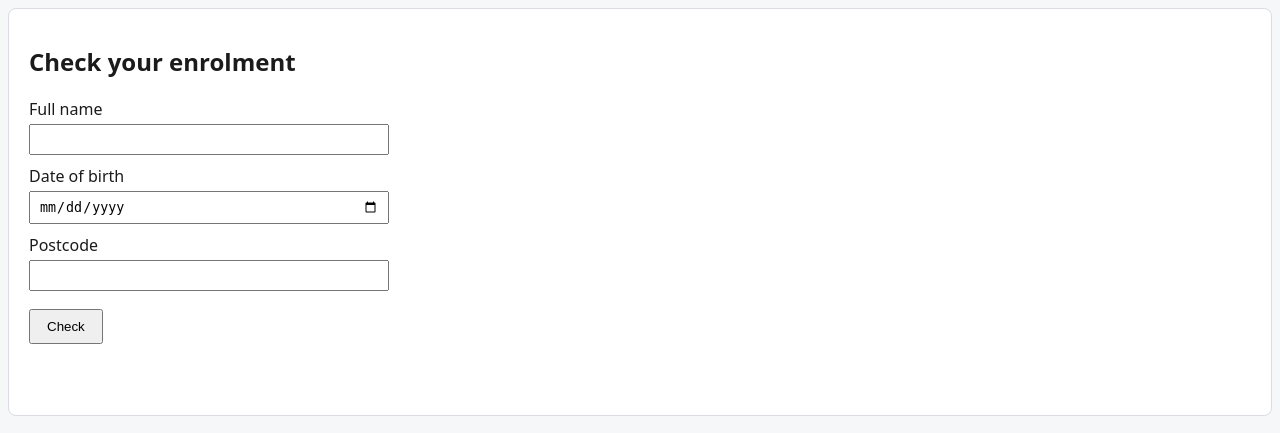
Scenario: SEC-08 EnrolmentCheckForm › sends details in a POST body, never in the URL, without a login token
Type "Jane Smith" into the field labelled "Full name".
click(209, 139); type("Jane Smith")  # box x1=29 y1=124 x2=389 y2=155
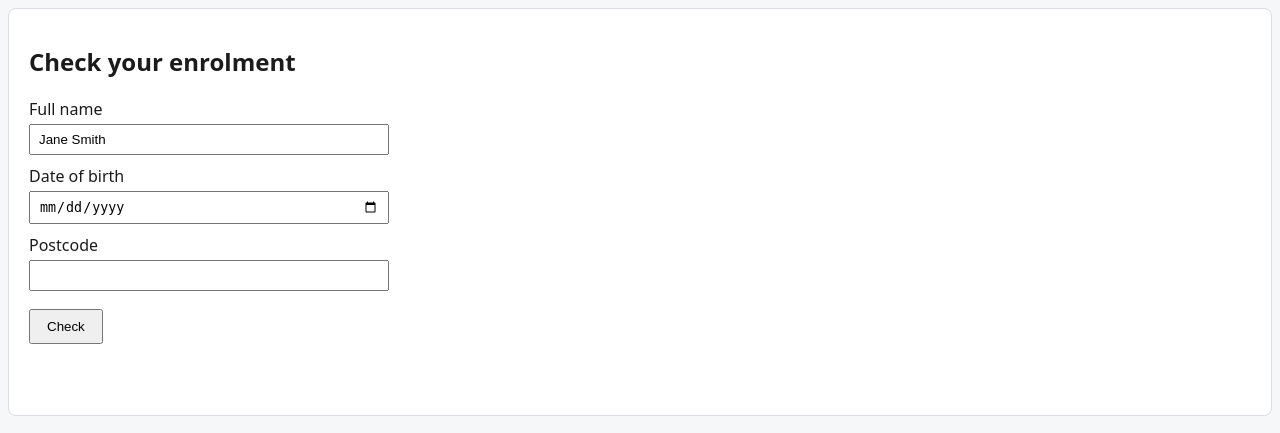
Type "1990-01-01" into the date field labelled "Date of birth".
click(209, 207); type("1990-01-01")  # box x1=29 y1=191 x2=389 y2=224
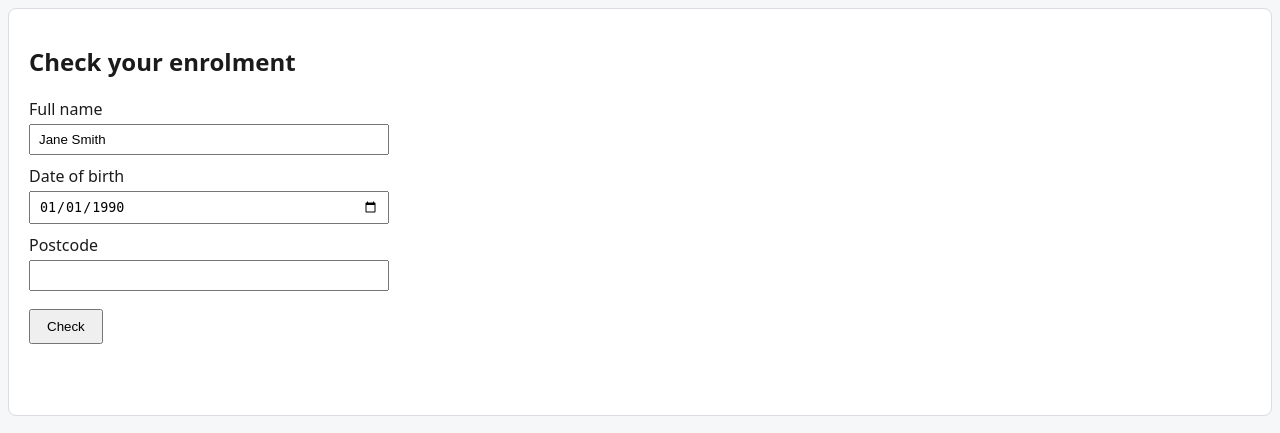
Type "3000" into the field labelled "Postcode".
click(209, 276); type("3000")  # box x1=29 y1=260 x2=389 y2=291
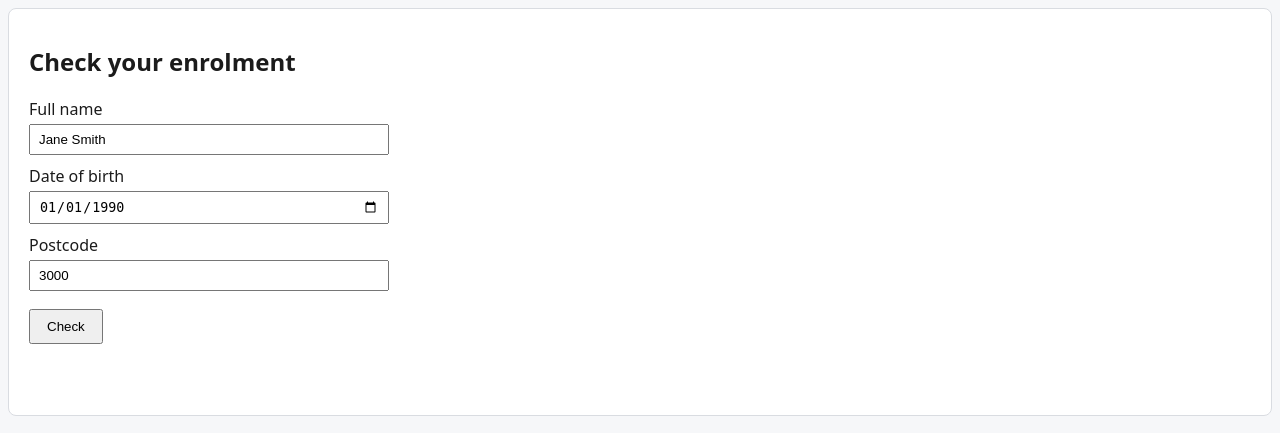
Click the button "Check".
click(66, 327)  # box x1=29 y1=309 x2=103 y2=344
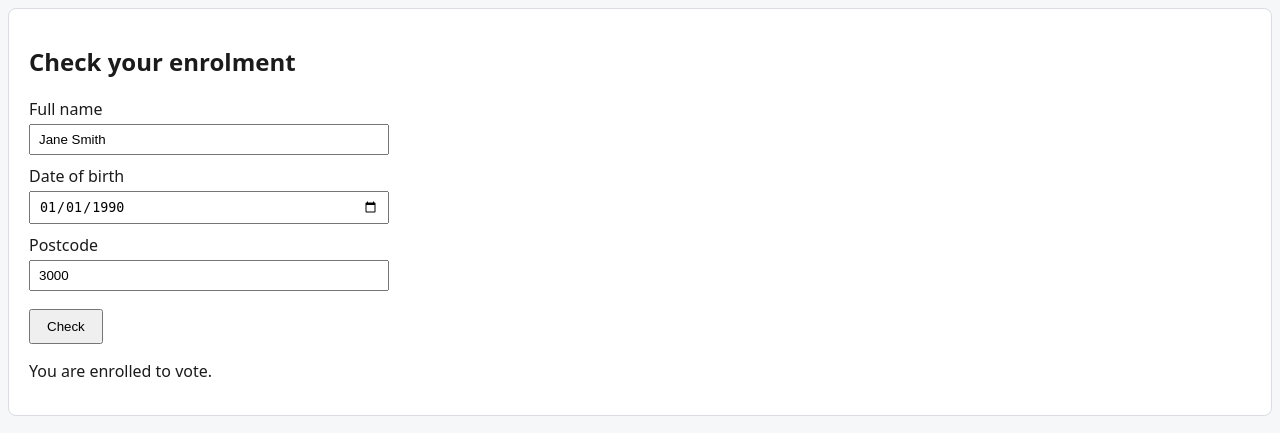
Check: the text "You are enrolled to vote." is shown, box x1=29 y1=360 x2=212 y2=382
